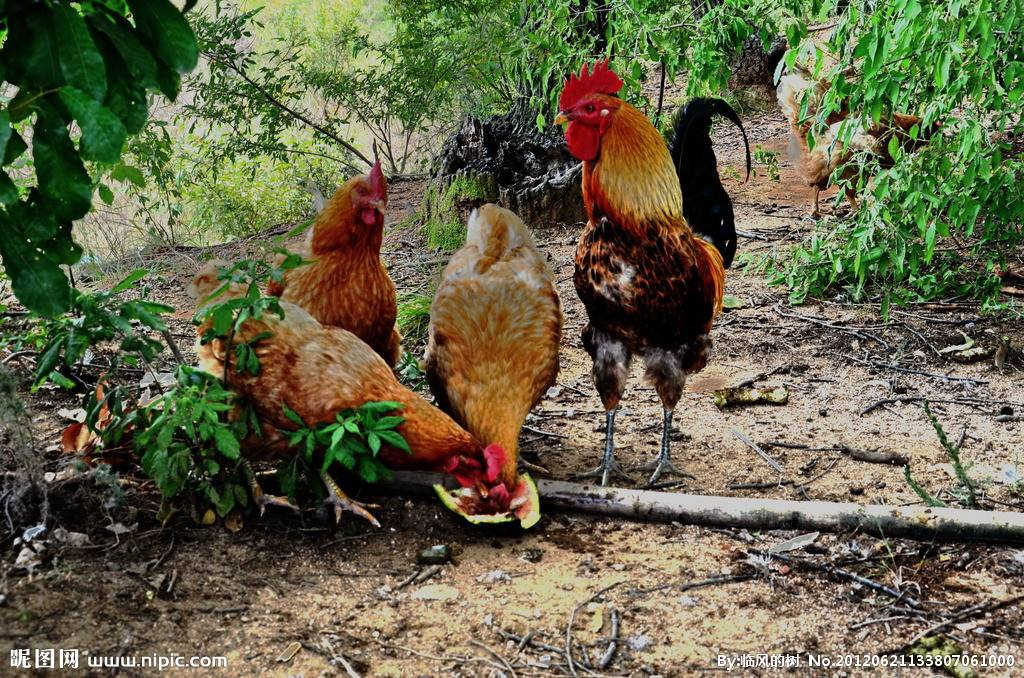chicken: (544, 57, 754, 488), (172, 266, 498, 530), (413, 208, 569, 526), (251, 158, 424, 396), (772, 53, 952, 214)
